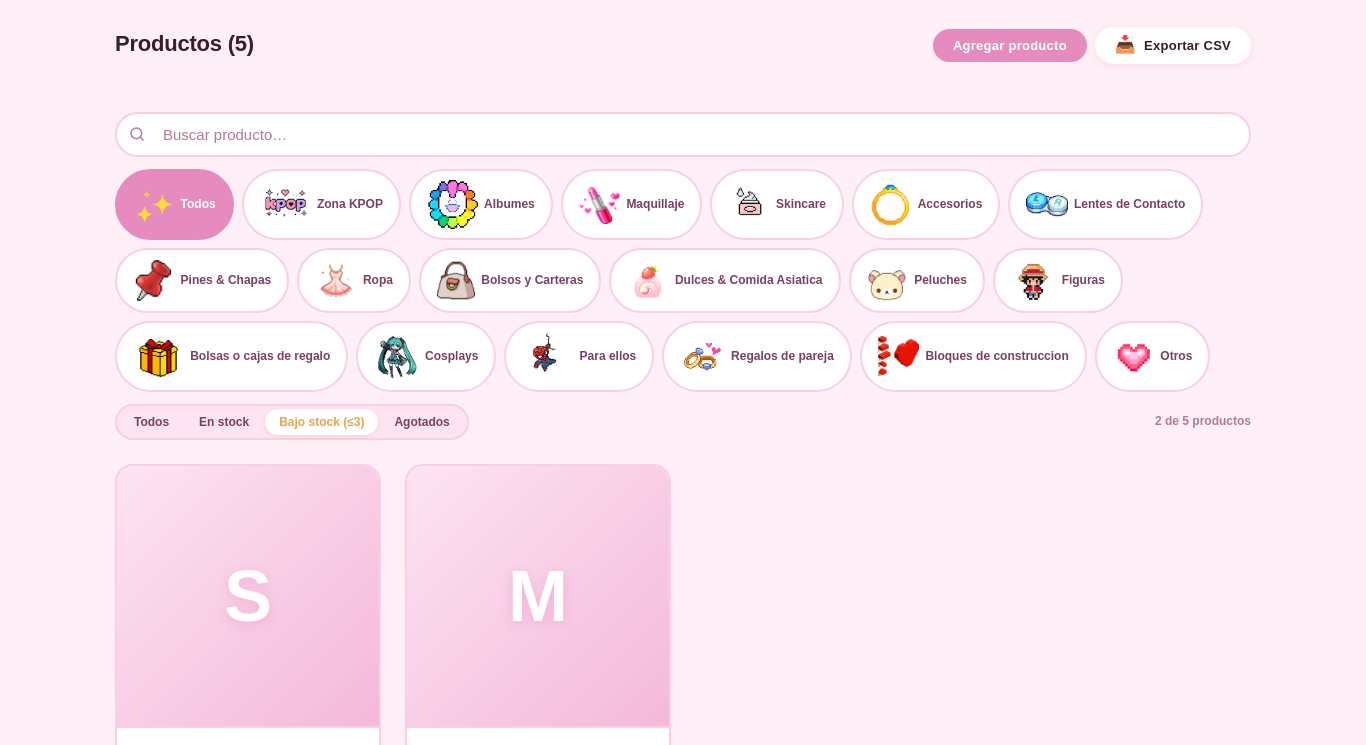
ProductManagementPage — Low Stock Quick-Filter y Query Params › restablece el filtro al hacer clic en Limpiar filtros
expect the text "Bálsamo Labial Fresa" is not shown: met
In the search field labelled "Buscar producto": point(683, 134) [115, 112, 1251, 157], type "inexistente_123"
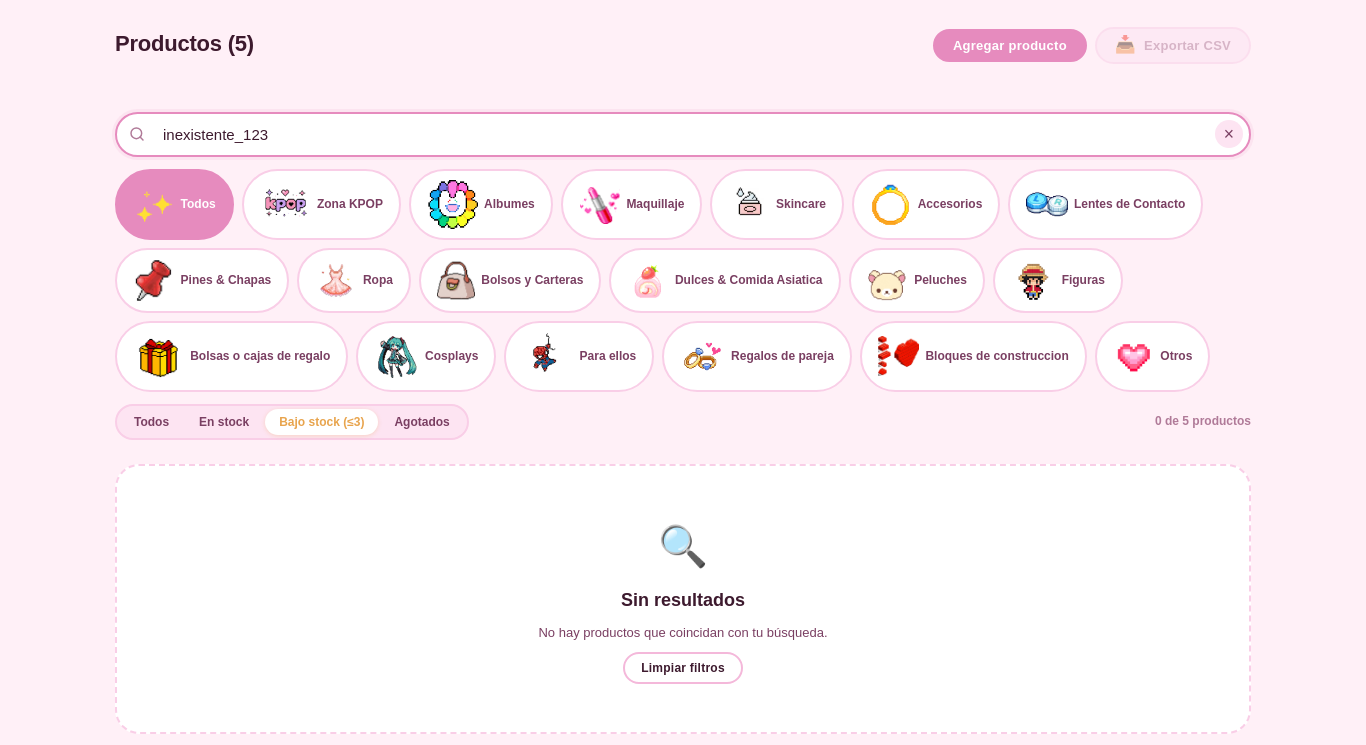
Click the button "Limpiar filtros": point(683, 668) [623, 652, 743, 684]
(page scrolled)
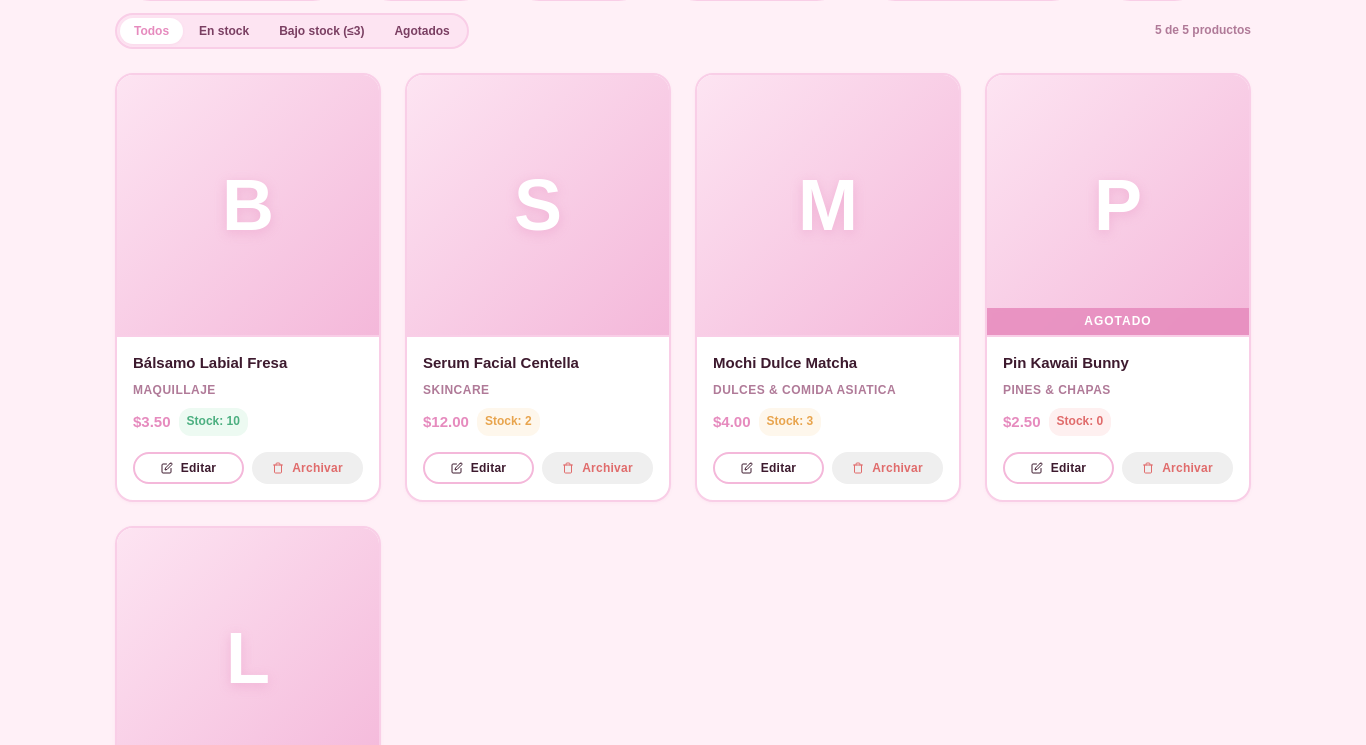
expect the text "Bálsamo Labial Fresa" is shown: met, box [133, 354, 287, 371]
expect the text "Pin Kawaii Bunny" is shown: met, box [1003, 354, 1129, 371]
